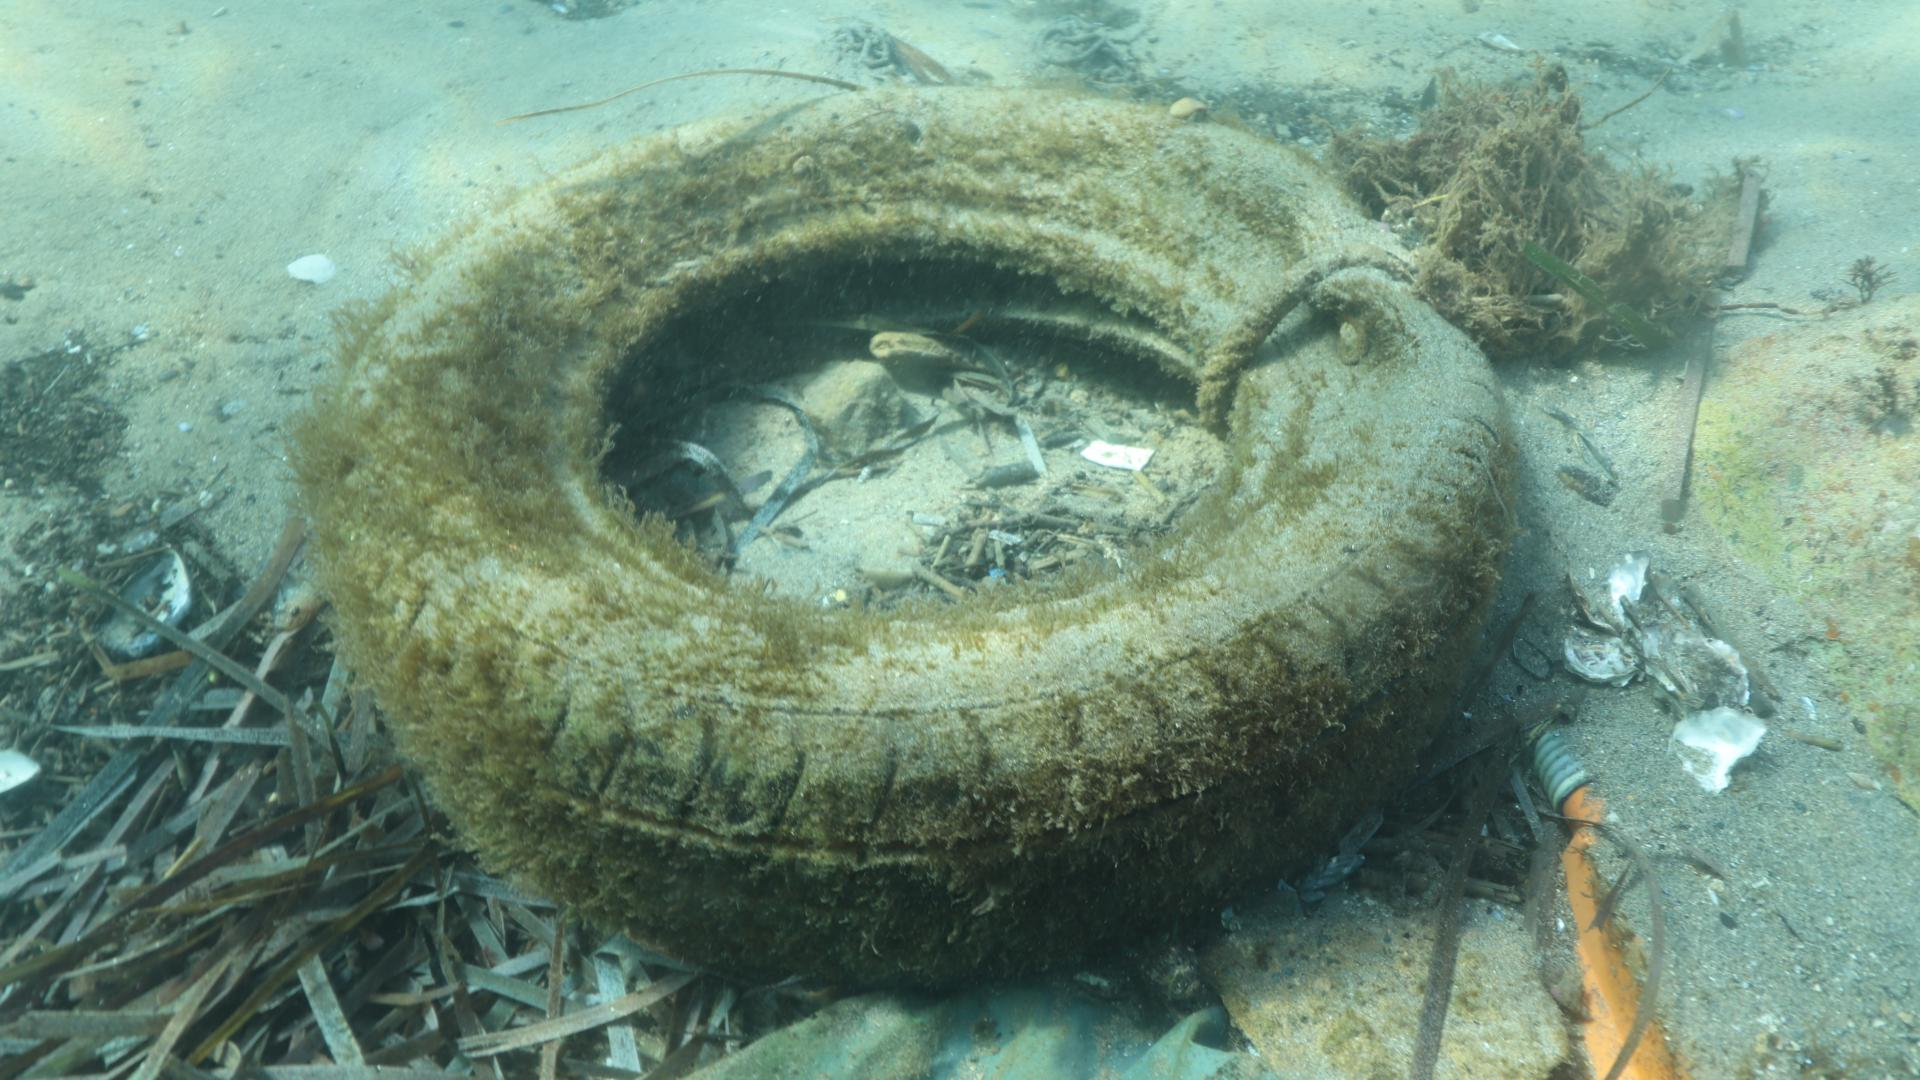rope: (1193, 240, 1416, 444)
tire: (338, 84, 1510, 1000)
